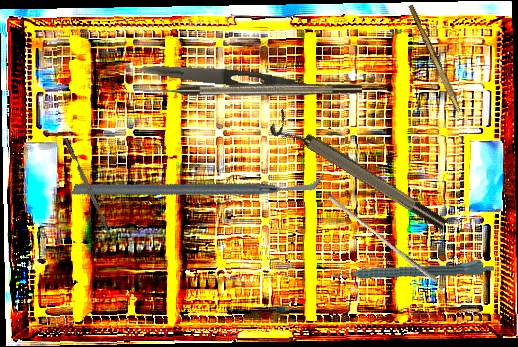Chopper: (70, 85, 325, 284), (63, 135, 121, 246)
Dressing Forceps: (140, 61, 347, 96)
Fixation Ring: (267, 108, 450, 241)
Handpiece: (332, 257, 495, 280)
Hook Surgical: (143, 84, 362, 96)
Pusher: (325, 194, 442, 284)
Scalpel Handle: (405, 4, 465, 112)
